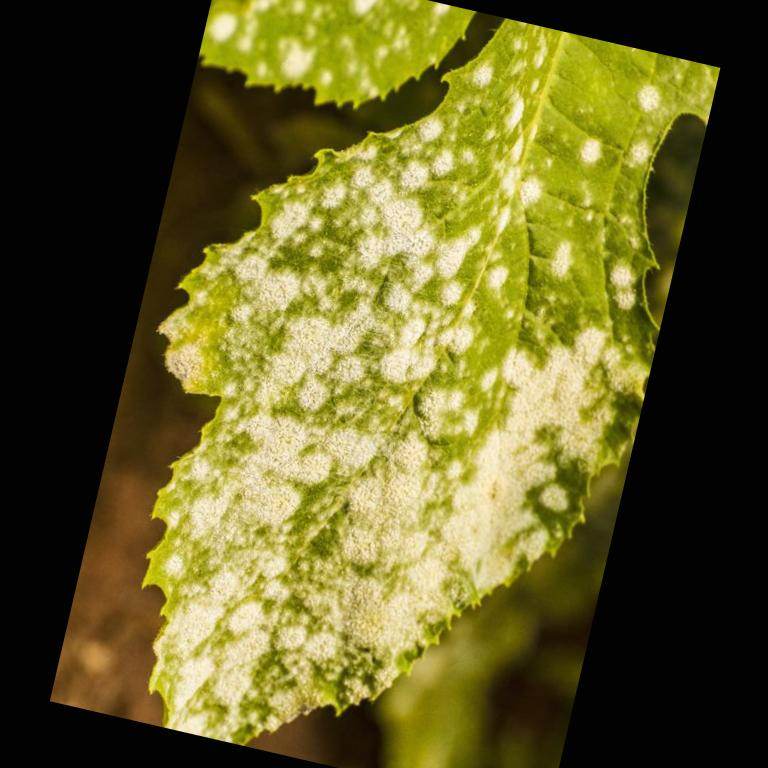powdery-mildew: (170, 418, 318, 723), (392, 308, 566, 562), (229, 193, 373, 414)
